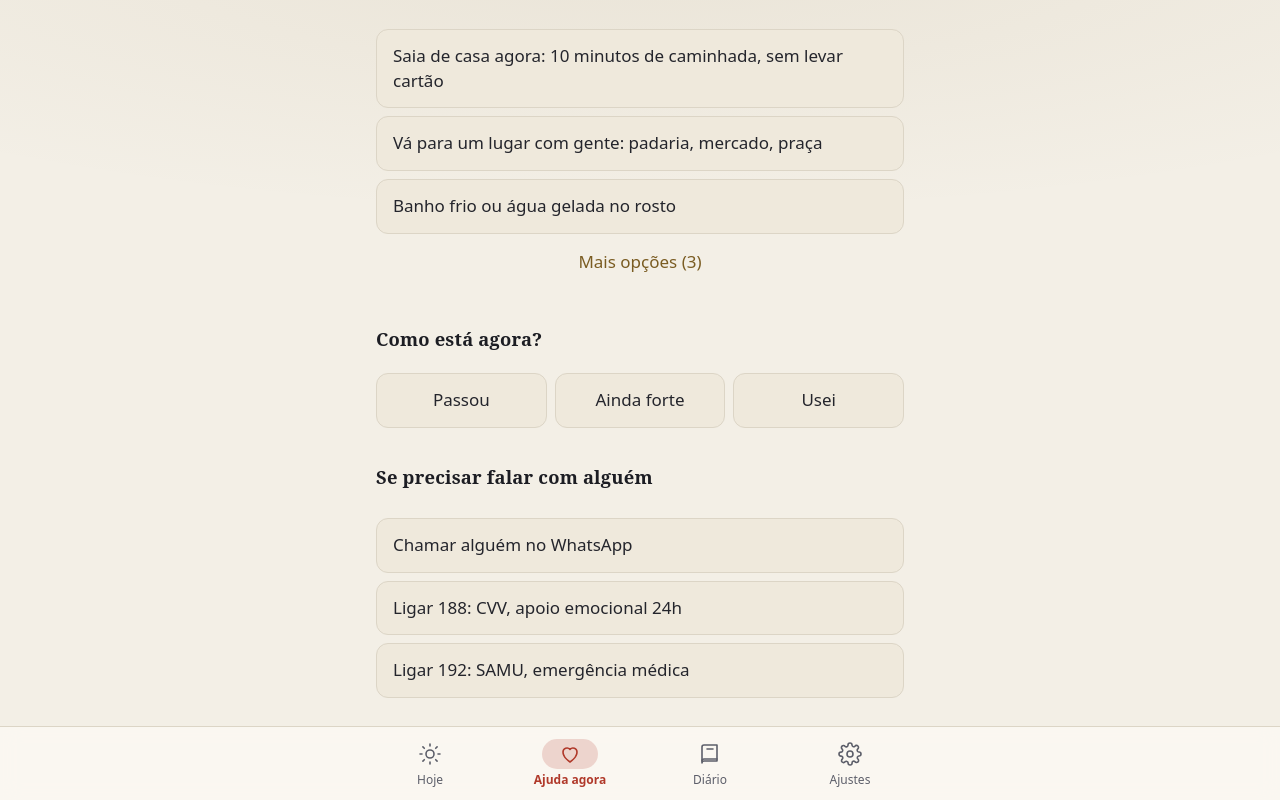
Test case: SOS que aprende › "Usei" leva ao registro sem julgamento
(page scrolled)
Click the button "Usei" at (819, 400), box [733,373,904,428]
(page scrolled)
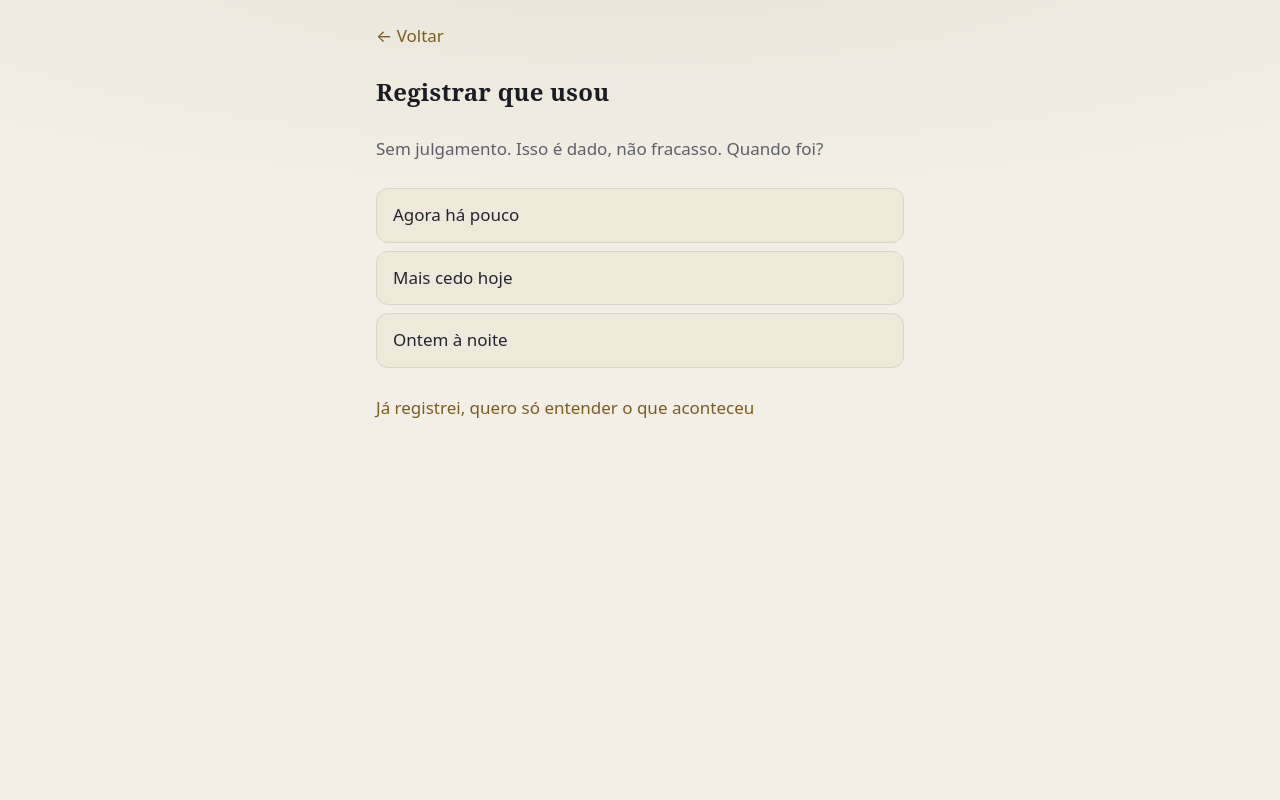
Check: the heading "Registrar que usou" is shown, box [376,75,610,108]
